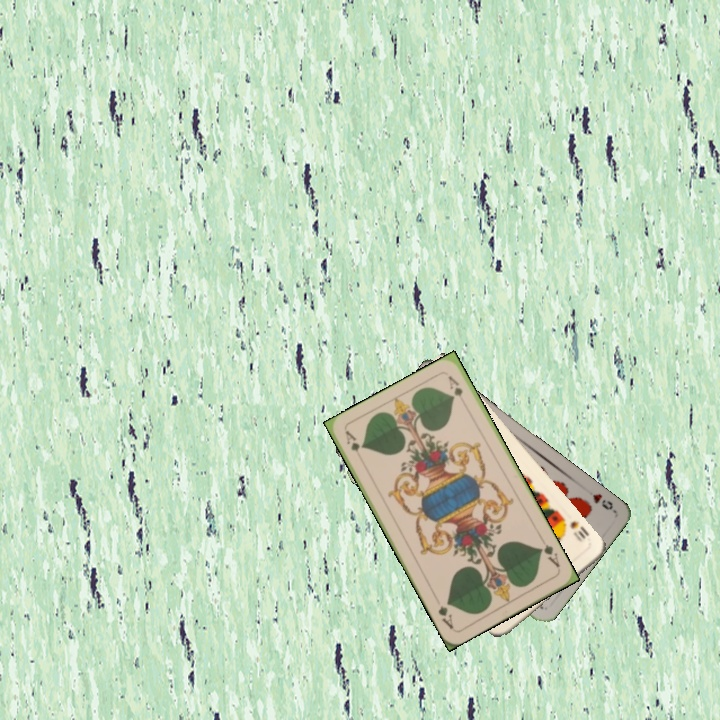GA: (341, 427, 366, 465), (535, 540, 562, 570)
H9: (588, 489, 616, 513)
S10: (566, 517, 592, 545)
